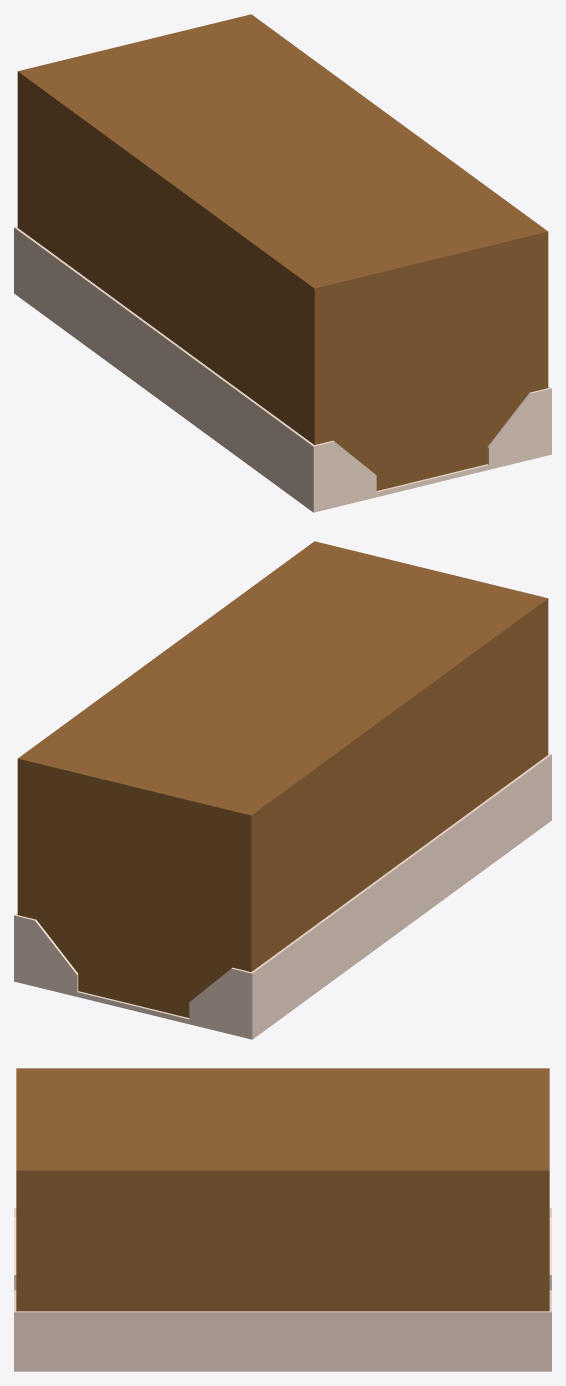
3 views of the same model, one above another, from view 1: azimuth 30°, elevation 25°; view 2: azimuth 150°, elevation 25°; view 3: azimuth 270°, elevation 25° (orthographic). The views are drawn at different scales.
Parts seen in each view (by area): view 1: Box2, Box2_Cover; view 2: Box2, Box2_Cover; view 3: Box2, Box2_Cover.
Part boxes in pixels (x1=…): Box2: x1=17, y1=14, x2=548, y2=490; Box2_Cover: x1=14, y1=226, x2=551, y2=512; Box2: x1=17, y1=541, x2=548, y2=1017; Box2_Cover: x1=14, y1=753, x2=551, y2=1039; Box2: x1=16, y1=1068, x2=549, y2=1311; Box2_Cover: x1=14, y1=1208, x2=551, y2=1371.
Size of the model in its own units: 102 by 91 by 222.
